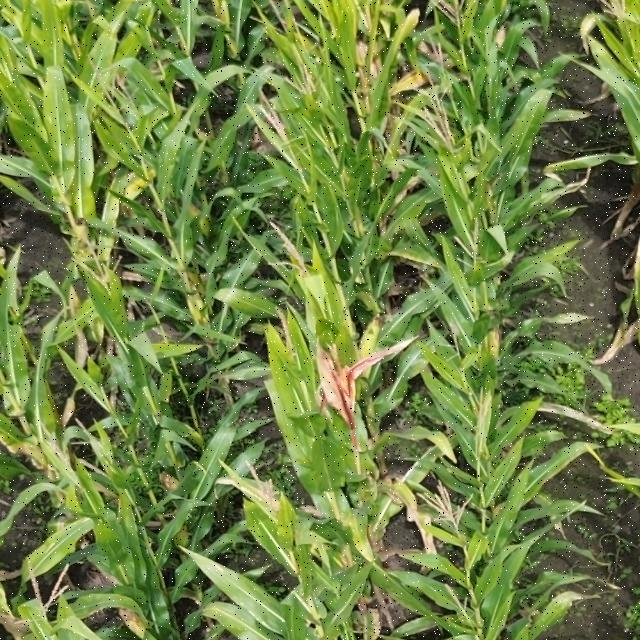gray-leaf-spot: (248, 507, 293, 562)
northern-leaf-blight: (330, 496, 396, 578), (94, 155, 162, 222), (378, 228, 457, 281)
